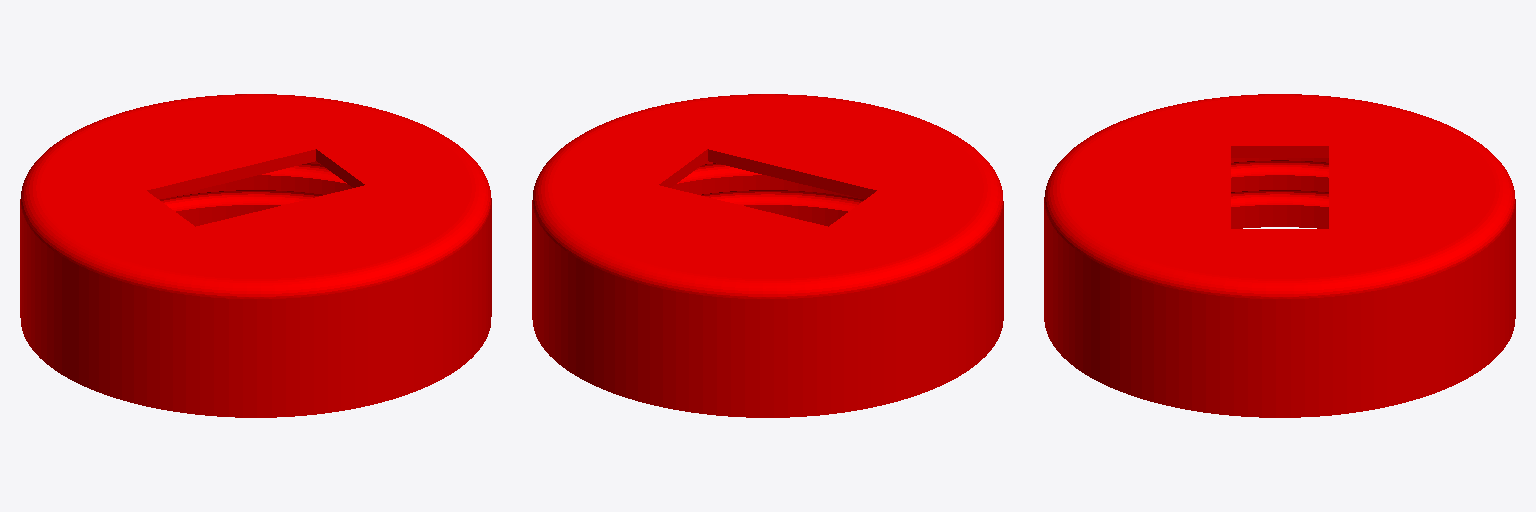
robot.urdf — bottle_cap:
<?xml version="1.0"?>

<robot name="bottle_cap">
  <link name="cap">

    <inertial>
      <origin xyz="0 0 0" />
      <mass value="0.05" />
      <inertia  ixx="1" ixy="0.0"  ixz="0.0"  iyy="1"  iyz="0.0"  izz="1" />
    </inertial>

    <visual>
      <origin xyz="0 0 0"/>
      <geometry>
	<mesh filename="mesh/bottle_cap.stl" scale="1.5 1.5 1"/>
      </geometry>
      <material name="red">
        <color rgba="1. 0. 0. 1."/>
      </material>
    </visual>

    <collision>
      <origin xyz="0 0 0"/>
      <geometry>
        <mesh filename="mesh/bottle_cap.stl" />
      </geometry>
    </collision>
  </link>
</robot>

--- What the picture shows (computed from the rendered views, not written in the file) ---
Views: 3 orthographic renders of the robot side by side, from view 1: azimuth 30°, elevation 25°; view 2: azimuth 150°, elevation 25°; view 3: azimuth 270°, elevation 25°.
Robot: bottle_cap — 1 links, 0 joints (none); root link cap; default pose: every joint at zero.
Links seen in each view (by area): view 1: cap; view 2: cap; view 3: cap.
Boxes of the visible links, x1,y1,x2,y2 form: cap: (20, 94, 491, 417); cap: (532, 94, 1003, 417); cap: (1044, 94, 1515, 417).
Size in the robot's own frame: 0.072 by 0.072 by 0.022 metres.
Meshes: 1 distinct files referenced, 1 mesh visuals loaded (1 binary STL).